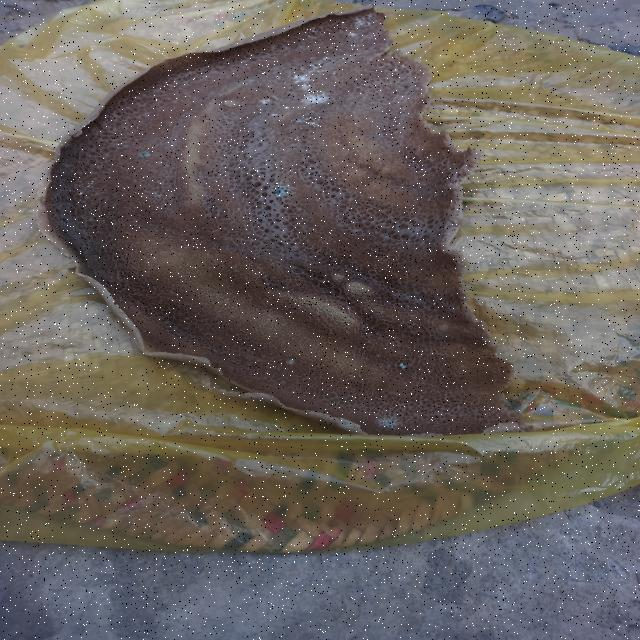injera_mold: (372, 410, 409, 433), (288, 70, 326, 91), (297, 89, 335, 108), (269, 183, 296, 204), (351, 12, 375, 32), (290, 114, 322, 129), (134, 147, 161, 162), (343, 26, 367, 40), (257, 95, 278, 107), (395, 360, 412, 372), (152, 190, 163, 200), (285, 357, 296, 366)
